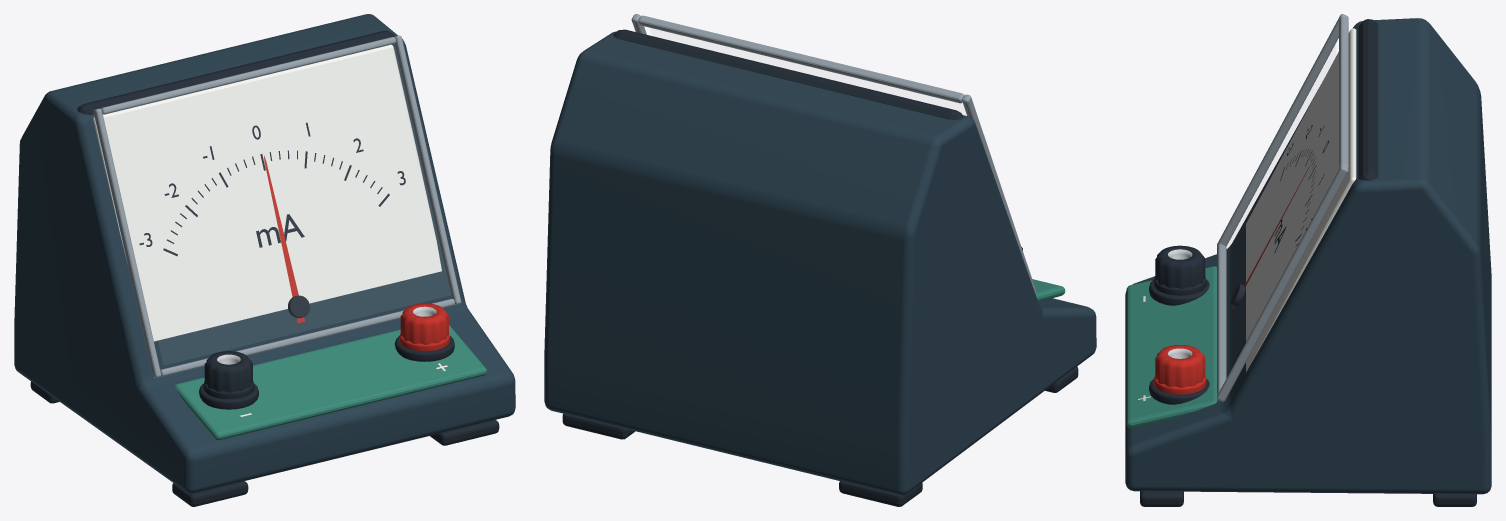
File: galvanometer.glb
3 renders of one model, left to right at view 1: azimuth 30°, elevation 25°; view 2: azimuth 150°, elevation 25°; view 3: azimuth 270°, elevation 25°, orthographic. The views are drawn at different scales.
Parts seen in each view (by area): view 1: One-piece tapered meter shell, Pale printed scale plate, Green terminal plate, Raised window housing, Meter clear-window gasket, Meter clear-window gasket.001, Meter clear-window gasket.003, Meter clear-window gasket.002, p binding socket, n binding socket, Rubber foot, Rubber foot.002 (+4 smaller); view 2: One-piece tapered meter shell, Raised window housing, Meter clear-window gasket.003, Rubber foot.001, Meter clear-window gasket, Rubber foot.003; view 3: One-piece tapered meter shell, Pale printed scale plate, Green terminal plate, Raised window housing, Meter clear-window gasket.001, Meter clear-window gasket, n binding socket, p binding socket, Meter clear-window gasket.003, Meter clear-window gasket.002, Rubber foot.002, p socket washer (+4 smaller).
Boxes of the visible parts, x1,y1,x2,y2 form: One-piece tapered meter shell: (14, 14, 515, 493); Pale printed scale plate: (93, 44, 441, 341); Green terminal plate: (175, 325, 486, 440); Raised window housing: (77, 31, 394, 115); Meter clear-window gasket: (93, 108, 161, 377); Meter clear-window gasket.001: (394, 35, 461, 304); Meter clear-window gasket.003: (100, 37, 396, 114); Meter clear-window gasket.002: (160, 299, 454, 376); p binding socket: (400, 303, 448, 344); n binding socket: (204, 351, 252, 392); Rubber foot: (172, 481, 248, 506); Rubber foot.002: (430, 420, 499, 445); One-piece tapered meter shell: (544, 31, 1096, 495); Raised window housing: (613, 29, 962, 119); Meter clear-window gasket.003: (638, 15, 964, 103); Rubber foot.001: (839, 481, 922, 506); Meter clear-window gasket: (962, 94, 1036, 294); Rubber foot.003: (562, 413, 634, 439); One-piece tapered meter shell: (1125, 18, 1491, 494); Pale printed scale plate: (1246, 28, 1356, 371); Green terminal plate: (1126, 266, 1217, 428); Raised window housing: (1358, 19, 1378, 180); Meter clear-window gasket.001: (1217, 165, 1348, 401); Meter clear-window gasket: (1217, 14, 1348, 246); n binding socket: (1155, 245, 1205, 288); p binding socket: (1155, 345, 1205, 387); Meter clear-window gasket.003: (1339, 17, 1348, 168); Meter clear-window gasket.002: (1217, 244, 1226, 395); Rubber foot.002: (1140, 491, 1183, 506); p socket washer: (1149, 378, 1209, 404).
Bounding box in the file's own units: 0.108 × 0.1023 × 0.1.
